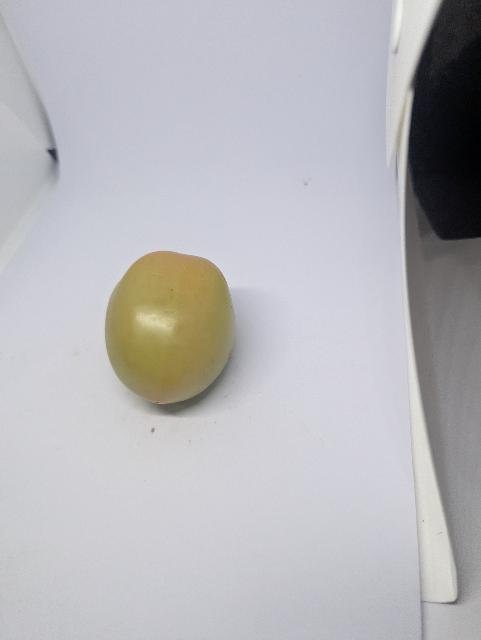breaker: (102, 252, 251, 406)
